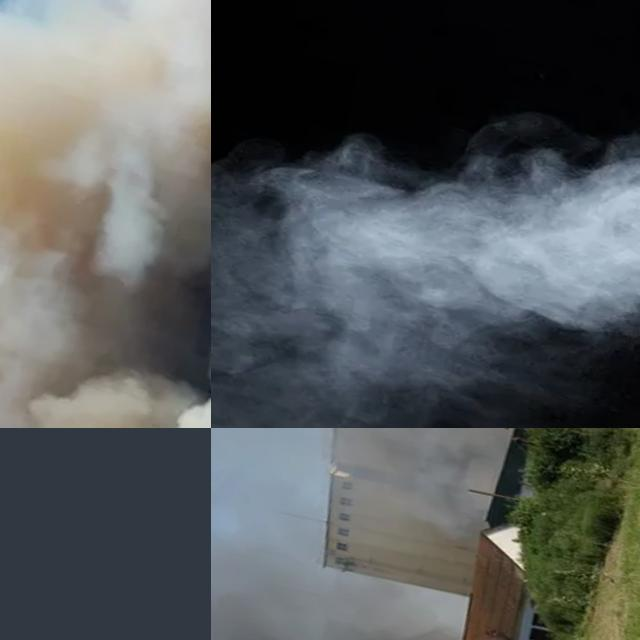smoke: (211, 0, 640, 428), (30, 0, 211, 428), (211, 502, 467, 640), (290, 428, 578, 545)
